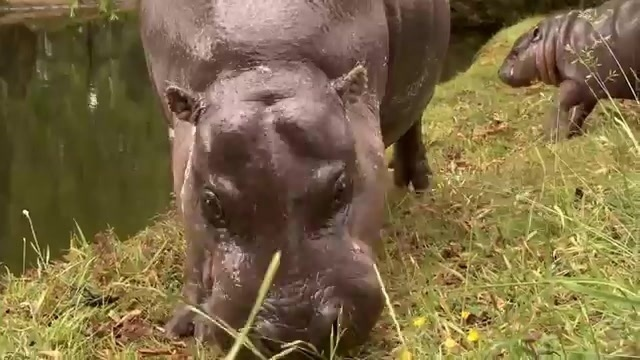hipopotamo: (123, 1, 466, 353), (496, 1, 640, 141)
